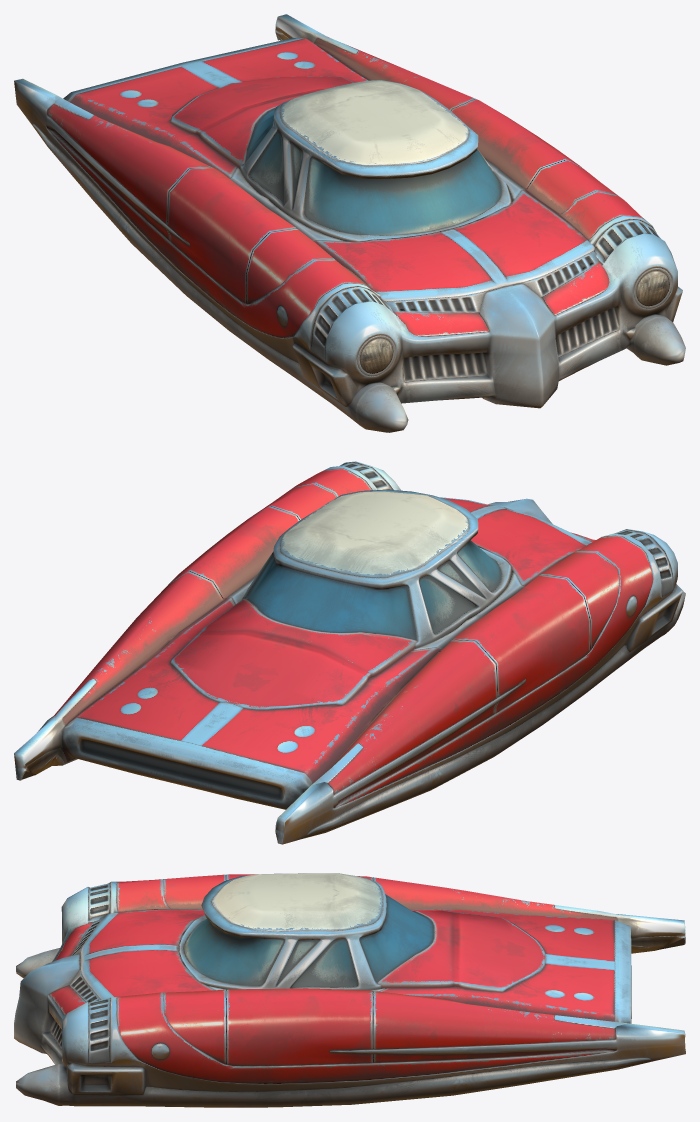
The model's file is car.obj.
3 views of the same model, one above another, from view 1: azimuth 30°, elevation 25°; view 2: azimuth 150°, elevation 25°; view 3: azimuth 270°, elevation 25° (orthographic). The views are drawn at different scales.
Parts seen in each view (by area): view 1: default_Untitled; view 2: default_Untitled; view 3: default_Untitled.
Boxes of the visible parts, x1,y1,x2,y2 form: default_Untitled: (14, 14, 685, 432); default_Untitled: (14, 461, 685, 844); default_Untitled: (14, 873, 685, 1107).
Size of the model in its own units: 8.67 by 4.24 by 16.77.
Materials: 1 (1 with a texture image).
